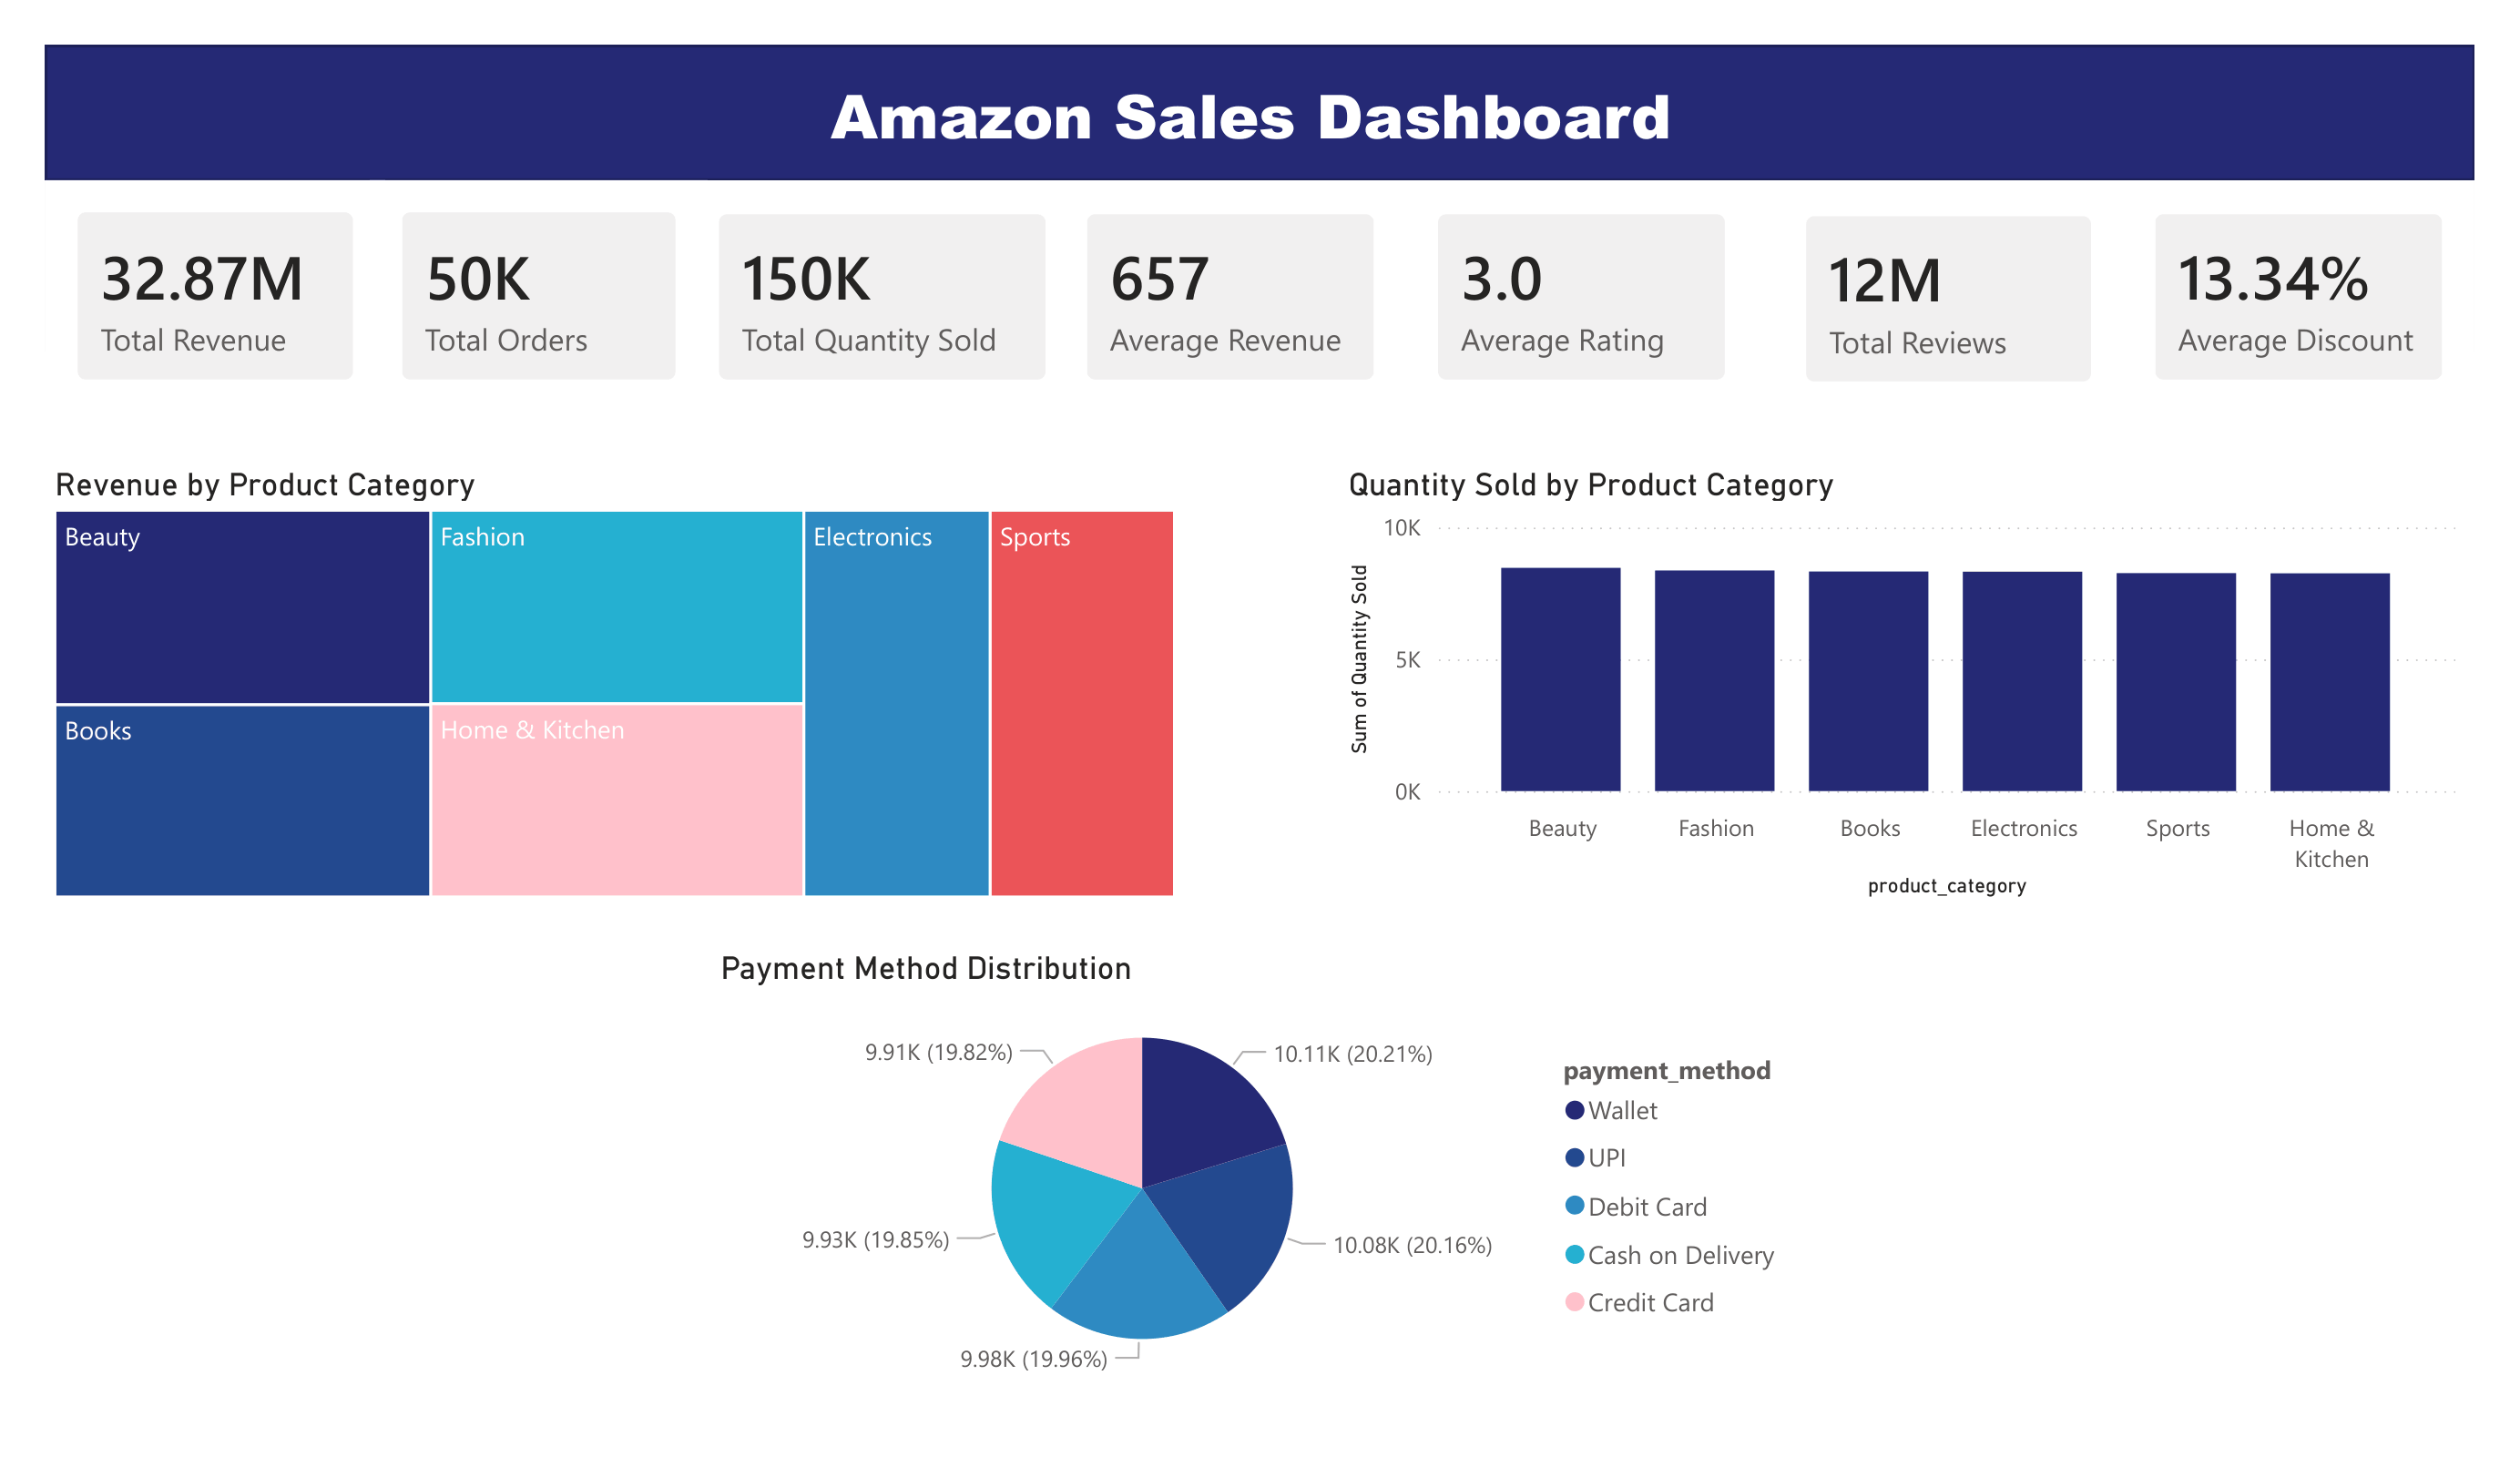

This screenshot's page, from the dashboard's own definition file:
{"tool":"powerbi","page":{"name":"dashboard_page1","canvas":[1280,720],"ordinal":0},"visuals":[{"type":"shape","box":[0,0,1280,71.1],"z":0},{"type":"textbox","box":[409.4,8.9,462.7,62.3],"z":1000},{"type":"cardVisual","fields":{"Data":["sales.Total Revenue"]},"box":[0,70.7,178.9,122.6],"z":2000},{"type":"cardVisual","fields":{"Data":["sales.Total Orders"]},"box":[171.4,70.7,177.4,122.2],"z":3000},{"type":"cardVisual","fields":{"Data":["sales.Total Quantity Sold"]},"box":[337.6,72.1,206.3,121.2],"z":4000},{"type":"cardVisual","fields":{"Data":["sales.Average Revenue"]},"box":[532.1,71.9,184.6,121],"z":5000},{"type":"cardVisual","fields":{"Data":["sales.Average Rating"]},"box":[717.1,72.1,184.7,121.2],"z":6000},{"type":"cardVisual","fields":{"Data":["sales.Total Reviews"]},"box":[910.9,73.1,184.6,121],"z":7000},{"type":"cardVisual","fields":{"Data":["sales.Average Discount"]},"box":[1095.1,72.1,184.7,121.2],"z":8000},{"type":"treemap","title":"Revenue by Product Category","fields":{"Group":["sales.product_category"],"Values":["sales.Total Revenue"]},"box":[0,220.5,600.4,233.7],"z":9000},{"type":"clusteredColumnChart","title":"Quantity Sold by Product Category","fields":{"Category":["sales.product_category"],"Y":["CountNonNull(sales.quantity_sold)"]},"box":[681.9,220.5,593.3,233.7],"z":10000},{"type":"pieChart","title":"Payment Method Distribution","fields":{"Category":["sales.payment_method"],"Y":["CountNonNull(sales.order_id)"]},"box":[350.6,476.1,580,233.7],"z":11000}]}

Visuals, with their boxes on the page's 1280x720 design canvas (x1, y1, x2, y2). These are canvas units, not pixel positions in the 2520x1457 screenshot, which may show the page scaled, cropped or inside an application window:
shape: <bbox>0, 0, 1280, 71</bbox>
textbox: <bbox>409, 9, 872, 71</bbox>
cardVisual - sales.Total Revenue: <bbox>0, 71, 179, 193</bbox>
cardVisual - sales.Total Orders: <bbox>171, 71, 349, 193</bbox>
cardVisual - sales.Total Quantity Sold: <bbox>338, 72, 544, 193</bbox>
cardVisual - sales.Average Revenue: <bbox>532, 72, 717, 193</bbox>
cardVisual - sales.Average Rating: <bbox>717, 72, 902, 193</bbox>
cardVisual - sales.Total Reviews: <bbox>911, 73, 1096, 194</bbox>
cardVisual - sales.Average Discount: <bbox>1095, 72, 1280, 193</bbox>
"Revenue by Product Category" treemap: <bbox>0, 220, 600, 454</bbox>
"Quantity Sold by Product Category" clusteredColumnChart: <bbox>682, 220, 1275, 454</bbox>
"Payment Method Distribution" pieChart: <bbox>351, 476, 931, 710</bbox>
